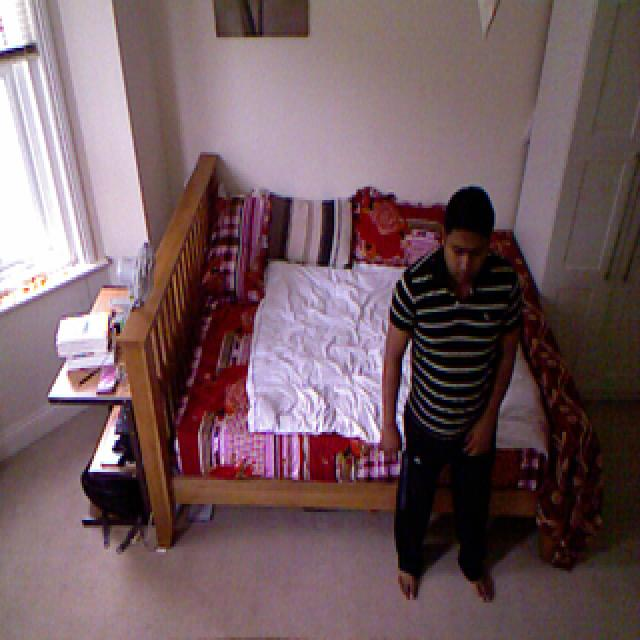standing: (383, 180, 528, 610)
